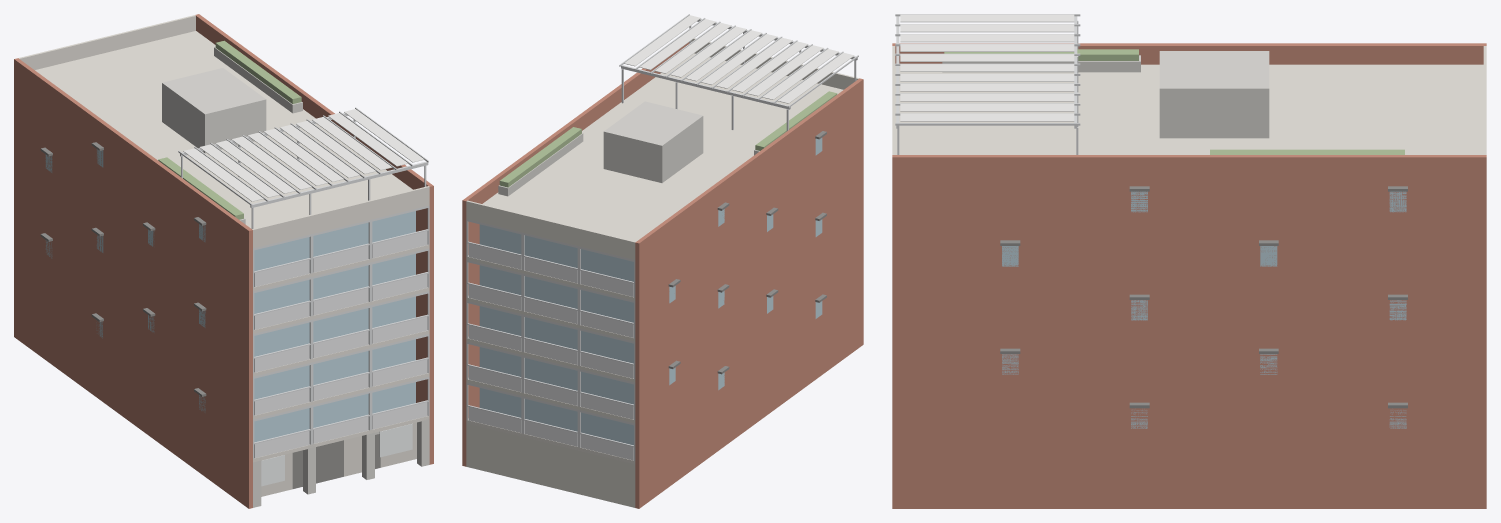
File: SLA03.glb
The picture shows the model from 3 angles, left to right: view 1: azimuth 30°, elevation 25°; view 2: azimuth 150°, elevation 25°; view 3: azimuth 270°, elevation 25°; orthographic projection. The views are drawn at different scales.
Visible parts, largest first — view 1: Brick_Red, Concrete_Beige, Glass, Mesh_Balustrade, Steel_Galvanised, Shade_Fabric, Concrete_Grey, Dark_Metal, Planting, Blockwork_Podium, Glass_Block; view 2: Brick_Red, Concrete_Beige, Glass, Mesh_Balustrade, Steel_Galvanised, Shade_Fabric, Blockwork_Podium, Concrete_Grey, Planting, Dark_Metal; view 3: Brick_Red, Concrete_Beige, Shade_Fabric, Concrete_Grey, Steel_Galvanised, Glass, Planting, Dark_Metal.
Boxes of the visible parts, x1,y1,x2,y2 form: Brick_Red: (14, 14, 433, 508); Concrete_Beige: (18, 15, 429, 462); Glass: (45, 149, 415, 442); Mesh_Balustrade: (254, 231, 427, 457); Steel_Galvanised: (178, 107, 429, 458); Shade_Fabric: (183, 109, 424, 201); Concrete_Grey: (162, 47, 429, 507); Dark_Metal: (40, 142, 380, 488); Planting: (158, 40, 301, 219); Blockwork_Podium: (261, 422, 416, 496); Glass_Block: (261, 423, 412, 486); Brick_Red: (462, 42, 863, 508); Concrete_Beige: (466, 38, 858, 463); Glass: (479, 138, 822, 445); Mesh_Balustrade: (468, 243, 633, 460); Steel_Galvanised: (466, 14, 858, 460); Shade_Fabric: (624, 15, 854, 103); Blockwork_Podium: (466, 420, 635, 507); Concrete_Grey: (498, 101, 759, 196); Planting: (499, 91, 837, 187); Dark_Metal: (668, 131, 826, 374); Brick_Red: (892, 43, 1486, 508); Concrete_Beige: (892, 46, 1486, 154); Shade_Fabric: (900, 14, 1074, 121); Concrete_Grey: (942, 51, 1269, 138); Steel_Galvanised: (895, 14, 1080, 154); Glass: (1002, 191, 1406, 428); Planting: (944, 49, 1404, 154); Dark_Metal: (1000, 186, 1407, 408).
Size of the model in its own units: 14.46 by 21.66 by 30.35.
